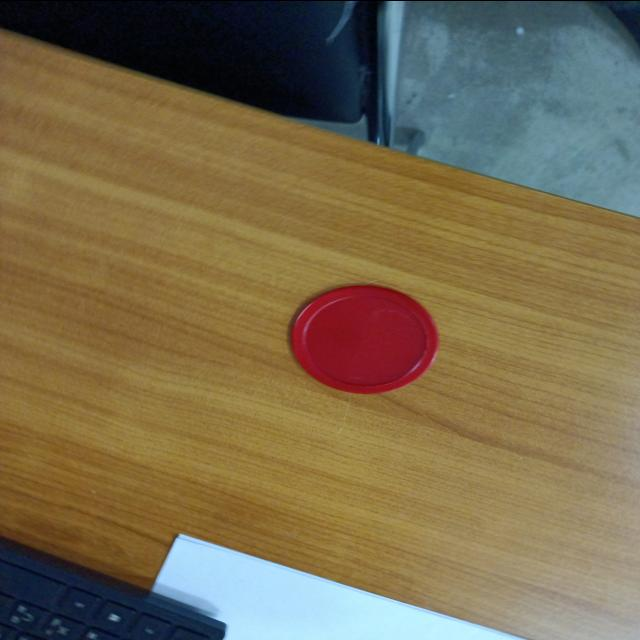chip: (287, 281, 441, 398)
